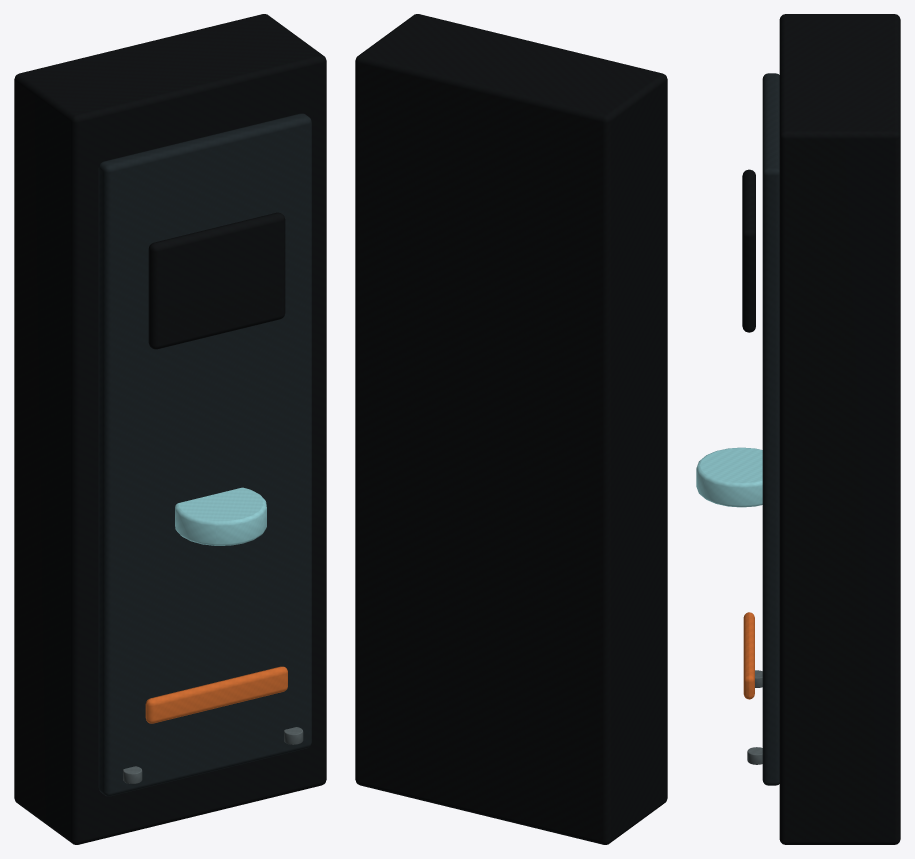
File: ElevatorCallPanel.glb
3 renders of one model, left to right at view 1: azimuth 30°, elevation 25°; view 2: azimuth 150°, elevation 25°; view 3: azimuth 270°, elevation 25°, orthographic. The views are drawn at different scales.
Parts seen in each view (by area): view 1: ElevatorCallPanel_Mesh; view 2: ElevatorCallPanel_Mesh; view 3: ElevatorCallPanel_Mesh.
Part boxes in pixels (<box>): ElevatorCallPanel_Mesh: <box>14,14,326,844</box>; ElevatorCallPanel_Mesh: <box>355,14,667,844</box>; ElevatorCallPanel_Mesh: <box>696,14,900,844</box>.
Size of the model in its own units: 0.38 by 1.04 by 0.27.
5 materials, 5 textured.
